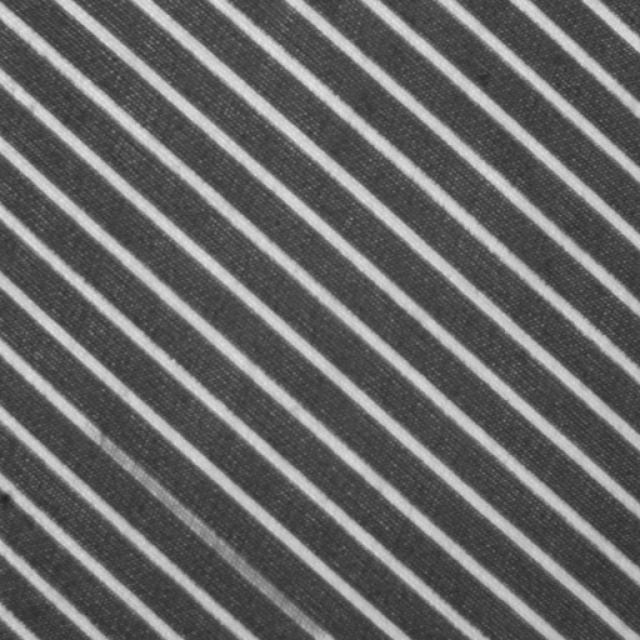Stain-Defect: (82, 420, 334, 639)
